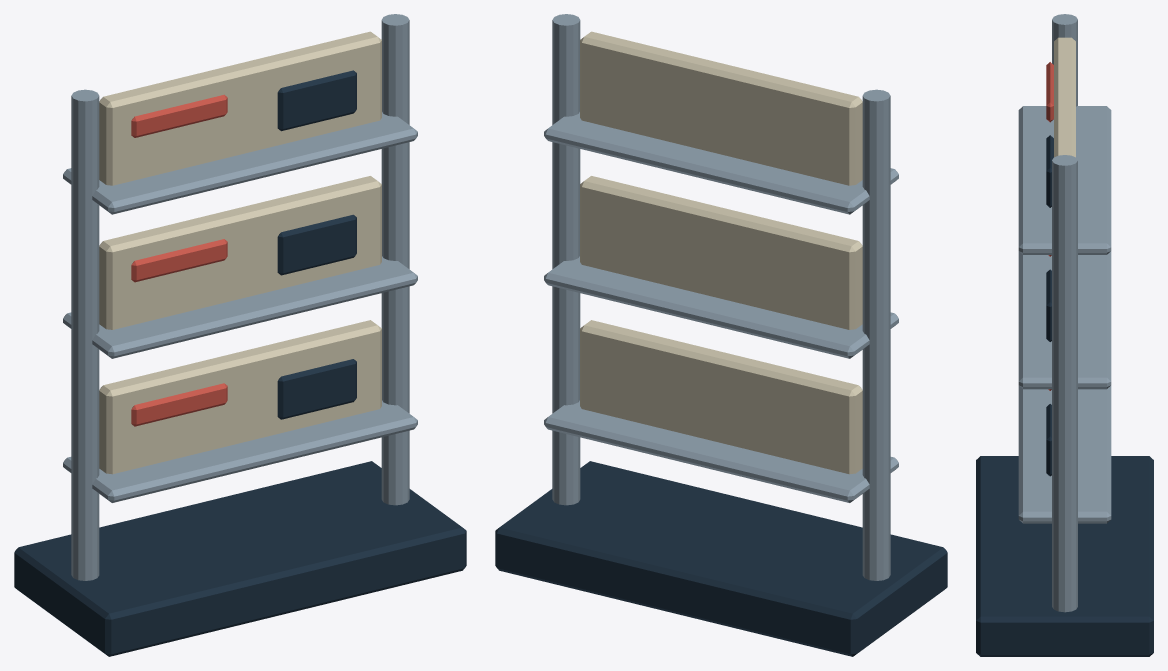
File: newspapers.glb
The picture shows the model from 3 angles, left to right: view 1: azimuth 30°, elevation 25°; view 2: azimuth 150°, elevation 25°; view 3: azimuth 270°, elevation 25°; orthographic projection. The views are drawn at different scales.
Visible parts, largest first — view 1: Base, Target2, Target0, Target1; view 2: Base, Target2, Target0, Target1; view 3: Base, Target2, Target0, Target1.
Part boxes in pixels (x1=…): Base: x1=14, y1=14, x2=466, y2=656; Target2: x1=99, y1=31, x2=381, y2=185; Target0: x1=99, y1=320, x2=381, y2=474; Target1: x1=99, y1=176, x2=381, y2=329; Base: x1=495, y1=14, x2=947, y2=656; Target2: x1=580, y1=31, x2=862, y2=185; Target0: x1=580, y1=320, x2=862, y2=474; Target1: x1=580, y1=176, x2=862, y2=329; Base: x1=976, y1=14, x2=1153, y2=656; Target2: x1=1046, y1=37, x2=1075, y2=207; Target0: x1=1046, y1=389, x2=1051, y2=476; Target1: x1=1046, y1=255, x2=1051, y2=341.
Bounding box in the file's own units: 1.05 × 1.45 × 0.48.
